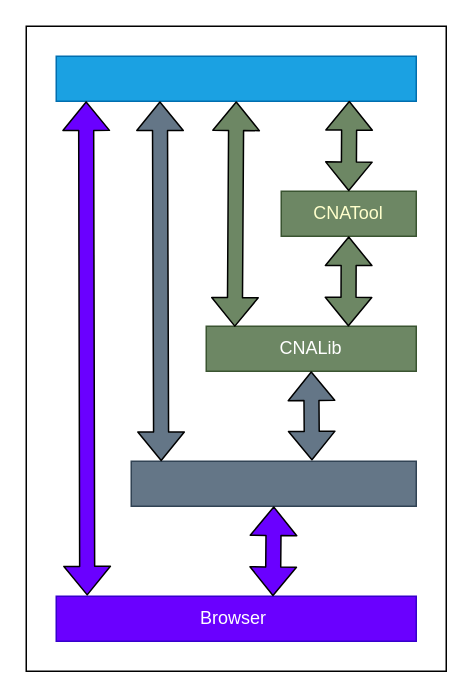
The diagram is 473 pixels wide and 698 high, and some of its shapes have lost their labels. Here are the shapes that lost their labels. From the top down, the centre of each, then its label:
At (235,78): "Front end".
At (273,483): "MaiaLib".
